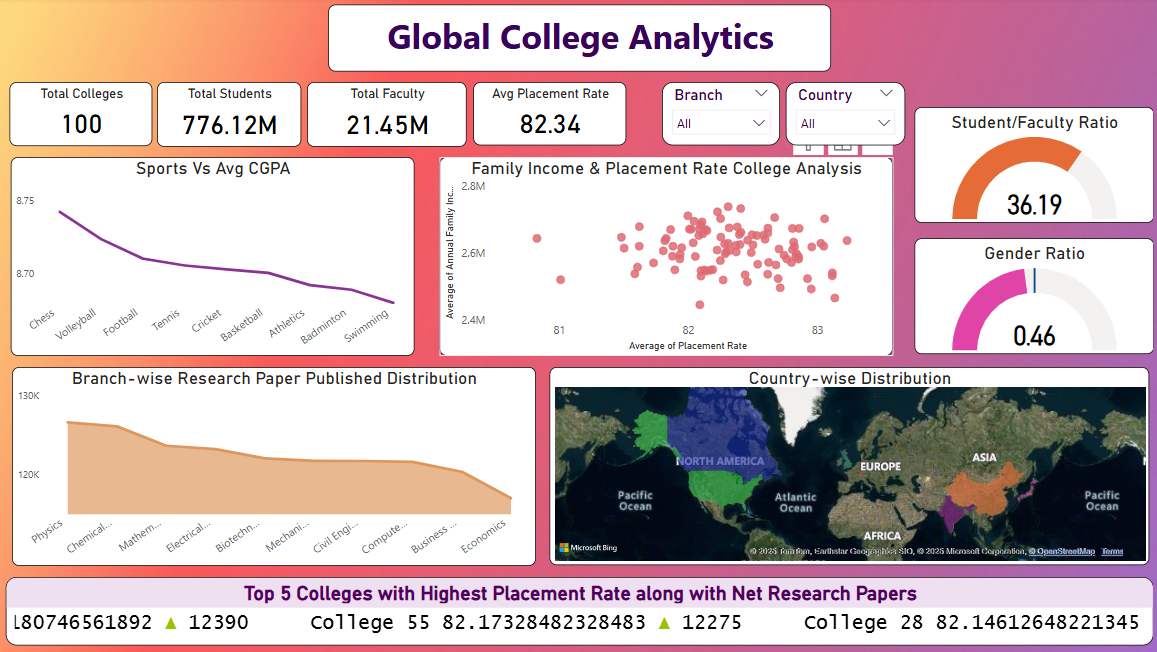

This screenshot's page, from the dashboard's own definition file:
{"tool":"powerbi","page":{"name":"College Analytics","canvas":[1280,720],"ordinal":0},"visuals":[{"type":"textbox","box":[363,8.7,552.2,73.9],"z":0},{"type":"ScrollingTextVisual1448795304508","title":"Top 5 Colleges with Highest Placement Rate along with Net Research Papers","fields":{"Category":["College Data.College ID"],"Measure Absolute":["Avg(College Data.Placement Rate)"],"Measure Deviation":["Sum(College Data.Research Papers Published)"]},"box":[10.3,637.2,1260.3,75],"z":1000},{"type":"card","title":"Total Students","fields":{"Values":["Sum(College Data.Total Students)"]},"box":[175.3,92.7,158.2,71.3],"z":2000},{"type":"card","title":"Total Colleges","fields":{"Values":["Count(College Data.College ID)"]},"box":[14.2,93,156.9,70.8],"z":3000},{"type":"card","title":"Total Faculty","fields":{"Values":["Sum(College Data.Faculty Count)"]},"box":[340.7,92.7,175.3,71.3],"z":4000},{"type":"card","title":"Avg Placement Rate","fields":{"Values":["Avg(College Data.Placement Rate)"]},"box":[523.1,92.7,168.2,69.8],"z":5000},{"type":"lineChart","title":"Sports Vs Avg CGPA","fields":{"Y":["Avg(College Data.CGPA)"],"Category":["College Data.Sports"]},"box":[15.7,175.3,443.3,218.1],"z":6000},{"type":"stackedAreaChart","title":"Branch-wise Research Paper Published Distribution","fields":{"Category":["College Data.Branch"],"Y":["Sum(College Data.Research Papers Published)"]},"box":[15.9,406.8,575,218.2],"z":7000},{"type":"filledMap","title":"Country-wise Distribution","fields":{"Category":["College Data.Country"],"Series":["College Data.Country"]},"box":[606.5,406.5,658.7,217.4],"z":8000},{"type":"scatterChart","title":"Family Income & Placement Rate College Analysis","fields":{"Category":["College Data.College ID"],"X":["Avg(College Data.Placement Rate)"],"Y":["Avg(College Data.Annual Family Income)"]},"box":[486.1,175.3,497.5,218.1],"z":9000},{"type":"slicer","title":"RM Name Dropdown","fields":{"Values":["College Data.Country"]},"box":[865.2,92.7,131.1,69.8],"z":10000},{"type":"gauge","title":"Student/Faculty Ratio","fields":{"Y":["College Data.Students_Per_Teacher"],"MinValue":["College Data.Min"],"MaxValue":["College Data.Max"]},"box":[1007.1,121.4,262.9,127.1],"z":11000},{"type":"gauge","title":"Gender Ratio","fields":{"Y":["College Data.Female_to_Male"],"MinValue":["College Data.Gender Ratio Min"],"MaxValue":["College Data.Gender_Ratio_Max"],"TargetValue":["College Data.Gender_Ratio_target"]},"box":[1007.1,264.3,262.9,127.1],"z":12000},{"type":"slicer","title":"RM Name Dropdown","fields":{"Values":["College Data.Branch"]},"box":[729.8,92.7,129.7,69.8],"z":12001}]}

Visuals, with their boxes in screenshot pixels (x1, y1, x2, y2), scaled from the page's 1280x720 canvas onto the 1157x652 screenshot:
textbox: detection(328, 8, 827, 75)
"Top 5 Colleges with Highest Placement Rate along with Net Research Papers" ScrollingTextVisual1448795304508: detection(9, 577, 1149, 645)
"Total Students" card: detection(158, 84, 301, 149)
"Total Colleges" card: detection(13, 84, 155, 148)
"Total Faculty" card: detection(308, 84, 466, 149)
"Avg Placement Rate" card: detection(473, 84, 625, 147)
"Sports Vs Avg CGPA" lineChart: detection(14, 159, 415, 356)
"Branch-wise Research Paper Published Distribution" stackedAreaChart: detection(14, 368, 534, 566)
"Country-wise Distribution" filledMap: detection(548, 368, 1144, 565)
"Family Income & Placement Rate College Analysis" scatterChart: detection(439, 159, 889, 356)
"RM Name Dropdown" slicer: detection(782, 84, 901, 147)
"Student/Faculty Ratio" gauge: detection(910, 110, 1148, 225)
"Gender Ratio" gauge: detection(910, 239, 1148, 354)
"RM Name Dropdown" slicer: detection(660, 84, 777, 147)
